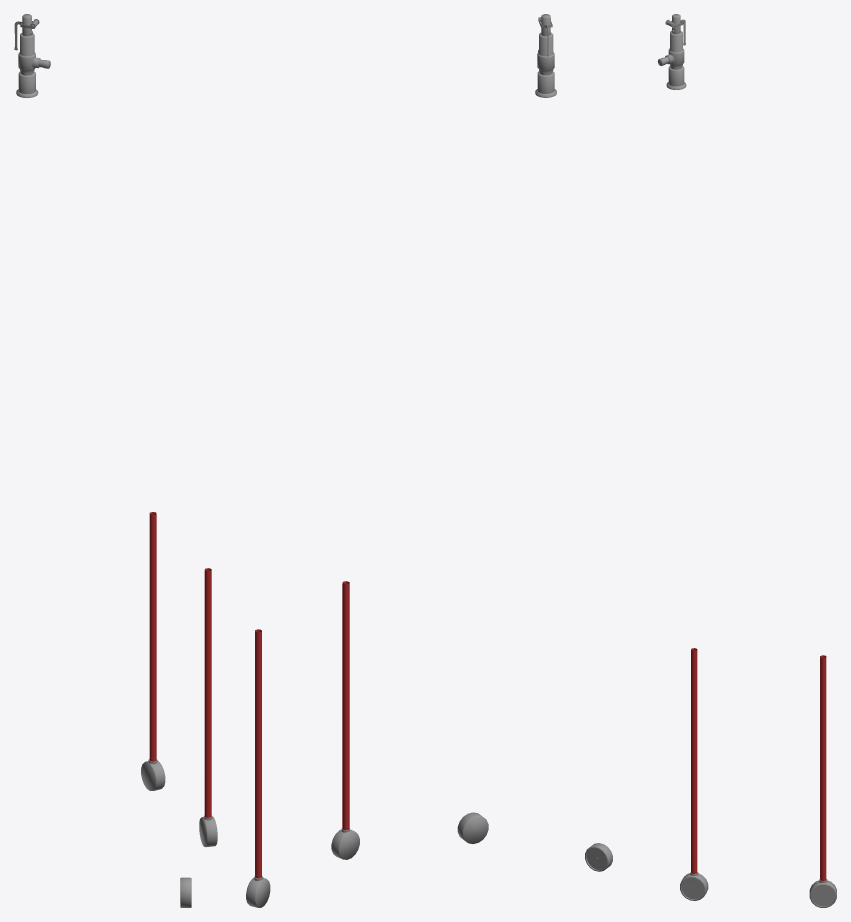
File: Extra Parts.FBX
3 views of the same model, side by side, from view 1: azimuth 30°, elevation 25°; view 2: azimuth 150°, elevation 25°; view 3: azimuth 270°, elevation 25° (orthographic). The views are drawn at different scales.
Visible parts, largest first — view 1: 압력계, 액위계, 가스밸브; view 2: 액위계, 압력계, 가스밸브, 온도계; view 3: 압력계, 액위계, 가스밸브, 온도계.
Part boxes in pixels (x1=…): 압력계: x1=141, y1=512, x2=165, y2=790; 액위계: x1=199, y1=568, x2=217, y2=847; 가스밸브: x1=14, y1=14, x2=50, y2=98; 액위계: x1=331, y1=581, x2=359, y2=859; 압력계: x1=246, y1=629, x2=270, y2=907; 가스밸브: x1=535, y1=14, x2=556, y2=97; 온도계: x1=457, y1=812, x2=488, y2=843; 압력계: x1=809, y1=655, x2=836, y2=907; 액위계: x1=680, y1=648, x2=708, y2=900; 가스밸브: x1=657, y1=14, x2=686, y2=89; 온도계: x1=585, y1=843, x2=612, y2=871.
Size of the model in its own units: 131 by 503 by 143.
